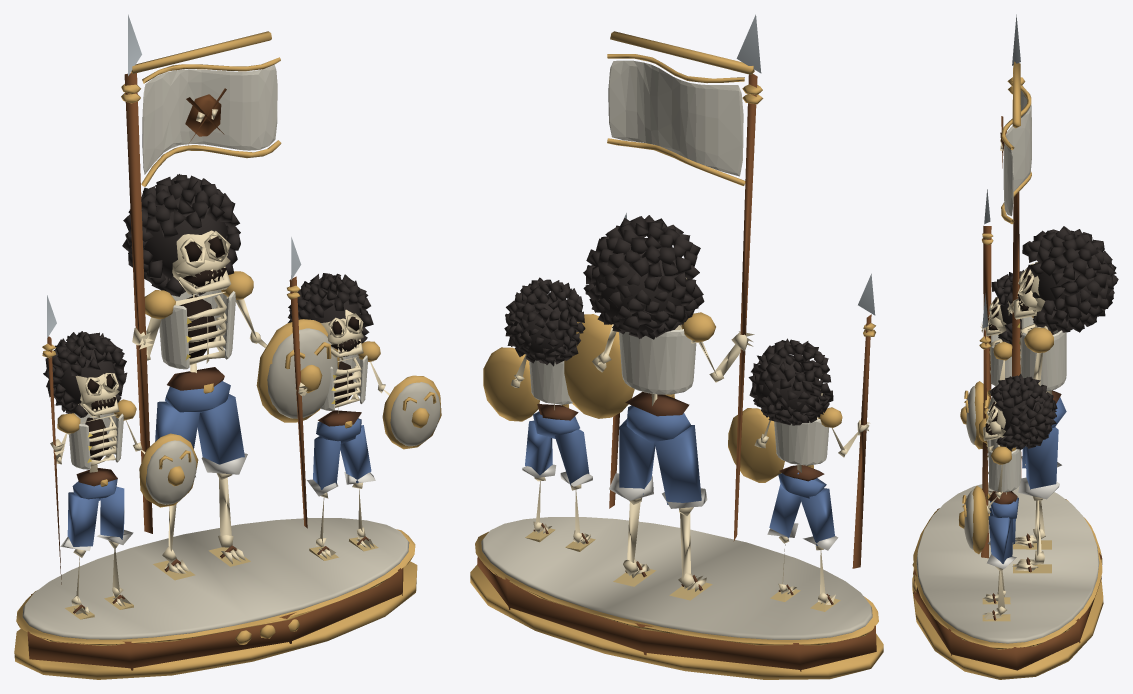
File: pirate_knight_l3.glb
3 renders of one model, left to right at view 1: azimuth 30°, elevation 25°; view 2: azimuth 150°, elevation 25°; view 3: azimuth 270°, elevation 25°, orthographic. The views are drawn at different scales.
Parts seen in each view (by area): view 1: FixedDetails, WoodBody, BrassTrim; view 2: FixedDetails, WoodBody, BrassTrim; view 3: FixedDetails, WoodBody, BrassTrim.
Part boxes in pixels (x1,y1,x2,y2): FixedDetails: (27, 14, 403, 670); WoodBody: (22, 65, 440, 639); BrassTrim: (14, 31, 441, 679); FixedDetails: (477, 14, 876, 671); WoodBody: (481, 60, 872, 639); BrassTrim: (470, 31, 883, 679); FixedDetails: (913, 14, 1118, 670); WoodBody: (916, 90, 1099, 643); BrassTrim: (912, 61, 1103, 679).
Bounding box in the file's own units: 0.5262 × 0.7716 × 0.2642.
